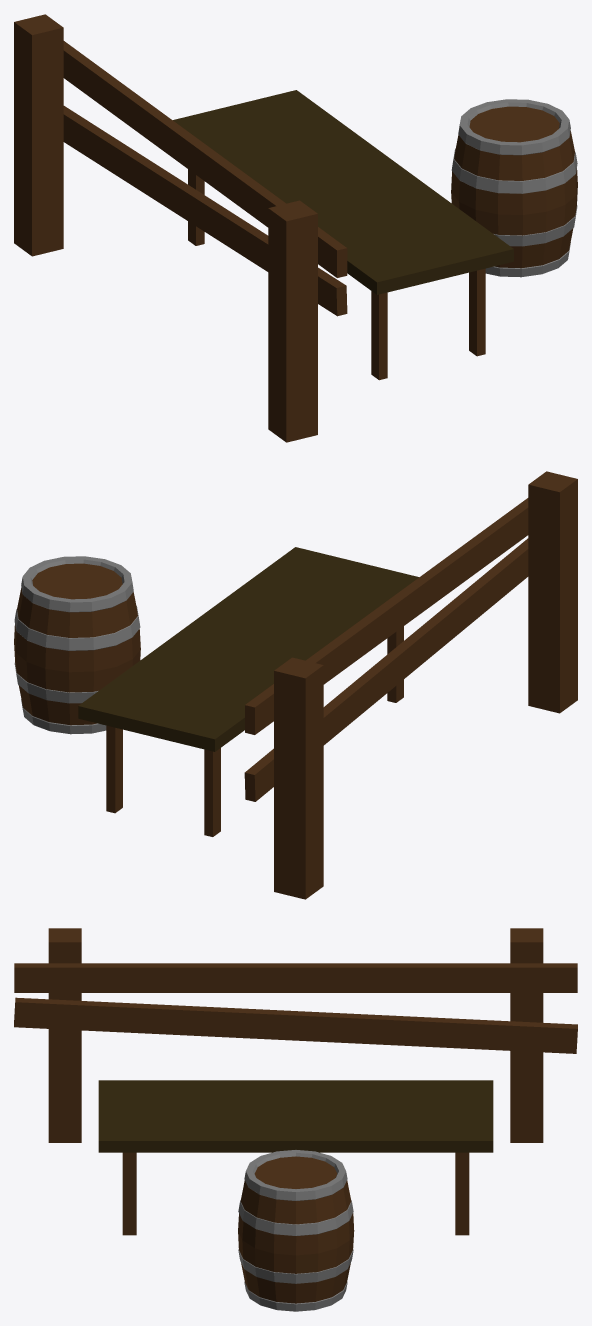
The model's file is Table 003.fbx.
3 views of the same model, one above another, from view 1: azimuth 30°, elevation 25°; view 2: azimuth 150°, elevation 25°; view 3: azimuth 270°, elevation 25° (orthographic). The views are drawn at different scales.
Parts seen in each view (by area): view 1: Cube.001, Cube, Cylinder; view 2: Cube.001, Cube, Cylinder; view 3: Cube.001, Cube, Cylinder.
Part boxes in pixels (x1,y1,x2,y2): Cube.001: [14, 14, 347, 442]; Cube: [173, 90, 513, 380]; Cylinder: [451, 99, 577, 277]; Cube.001: [244, 471, 577, 899]; Cube: [78, 547, 418, 836]; Cylinder: [14, 556, 140, 734]; Cube.001: [14, 928, 577, 1142]; Cube: [98, 1080, 493, 1235]; Cylinder: [238, 1150, 354, 1311].
Size of the model in its own units: 1334 by 672 by 1710.
